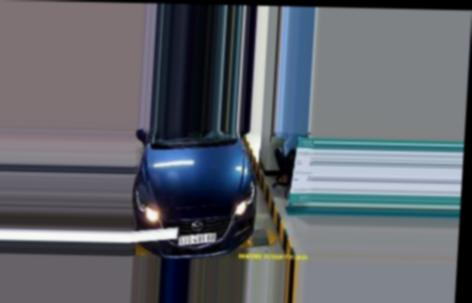License_Plate: (176, 229, 220, 249)
